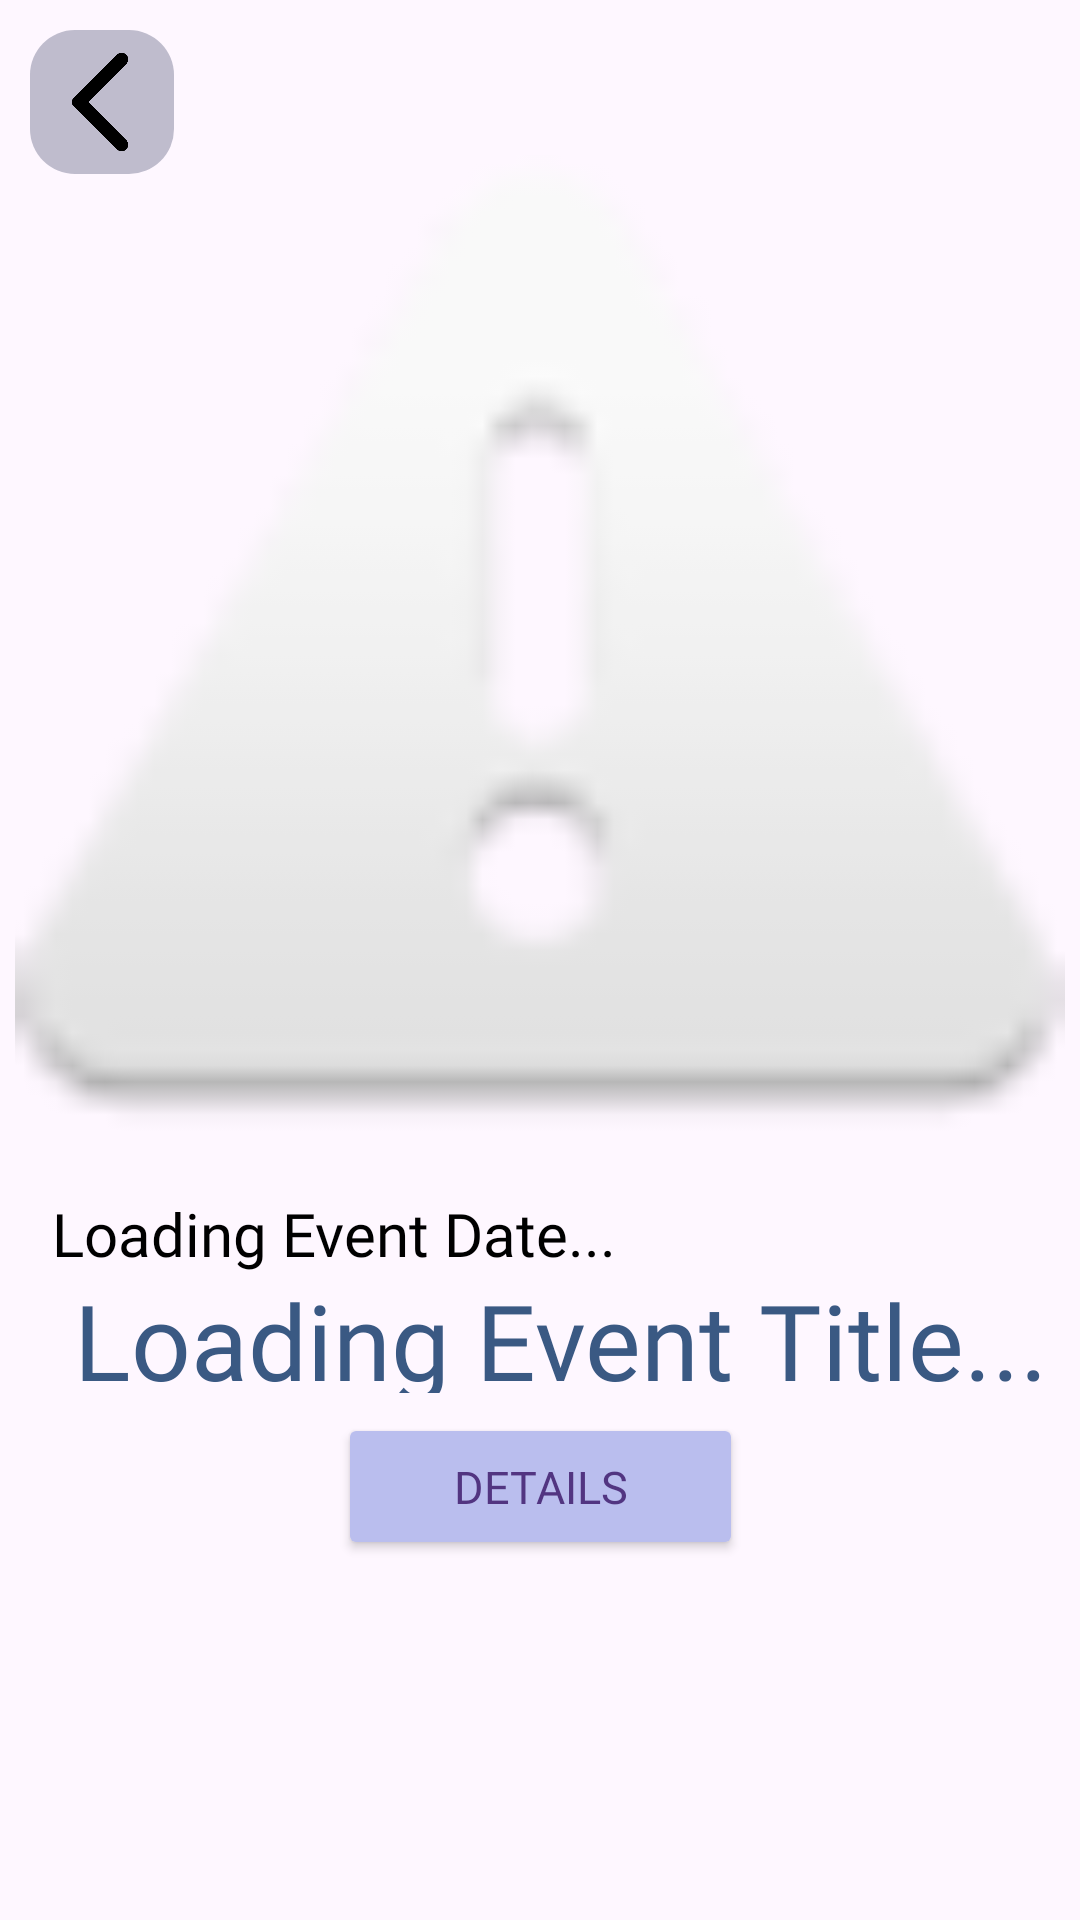

Where icons sit on this 1080 x 1920 app screen, as bbox=(x1, y1, x2, y2):
back arrow: bbox=(30, 30, 174, 174)
